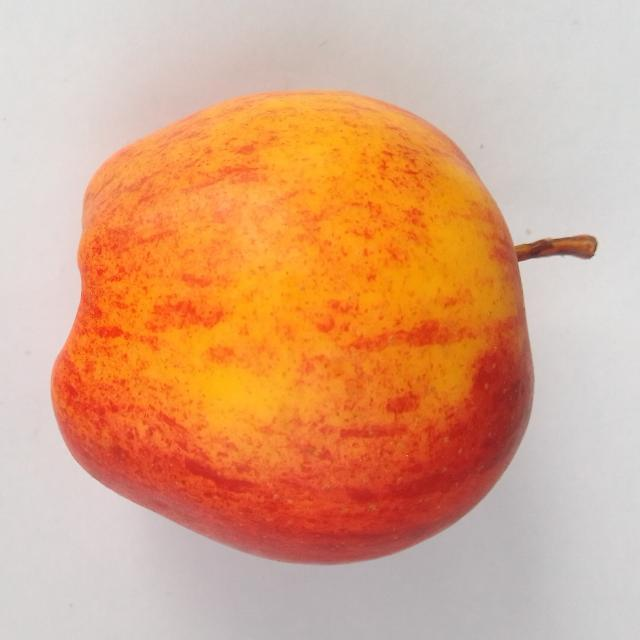Fresh Apple: (57, 100, 533, 545)
